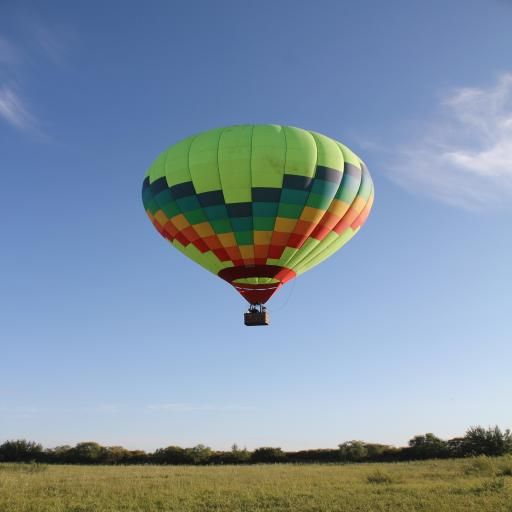hot air ballon: (141, 123, 376, 326)
